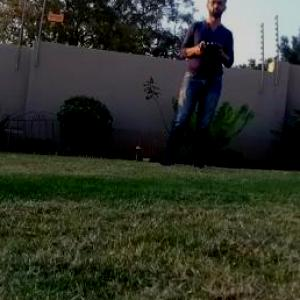follow: (153, 0, 238, 174)
